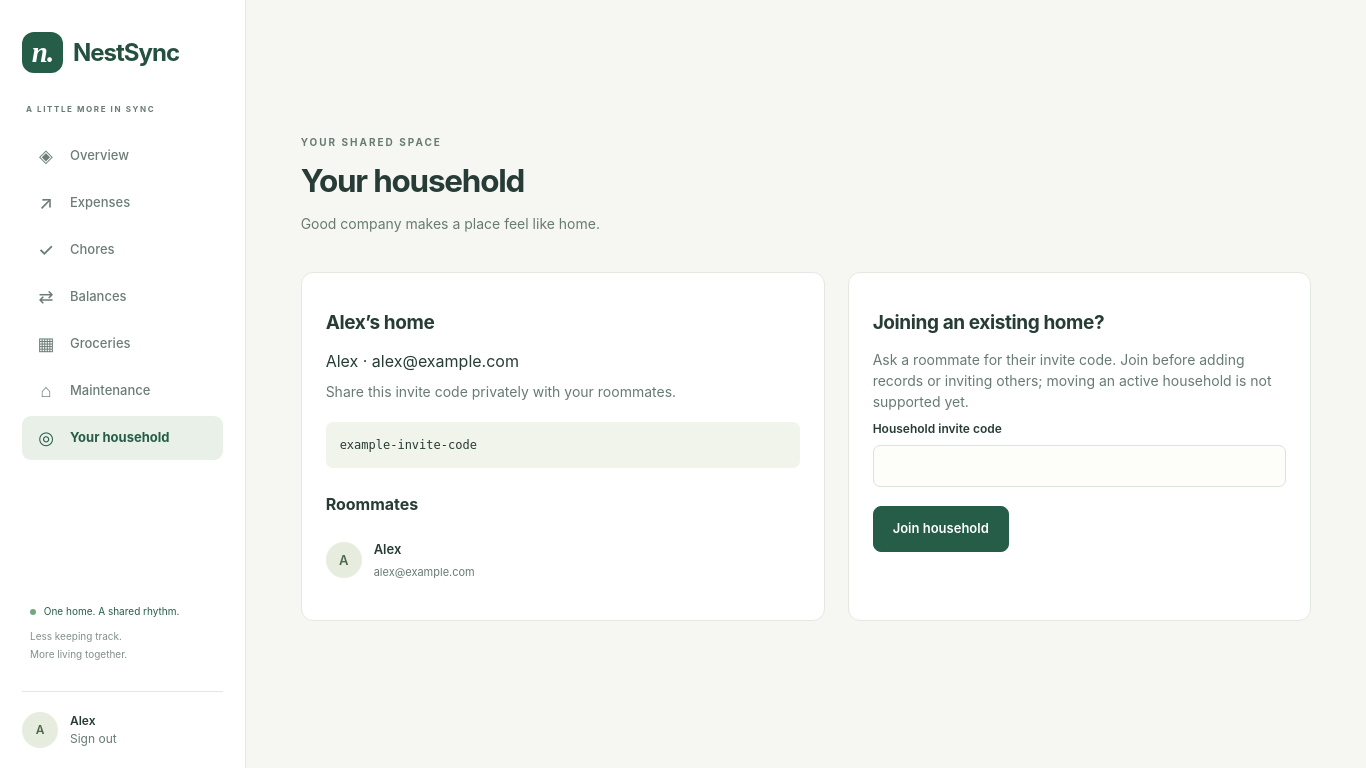
shows membership and joins another home
The width and height of the screenshot is (1366, 768).
Expected: the text "example-invite-code" is shown, [326,422,800,468]
Type "new-code" into the field labelled "Household invite code". click: (1079,466)
box: [873,445,1286,487]
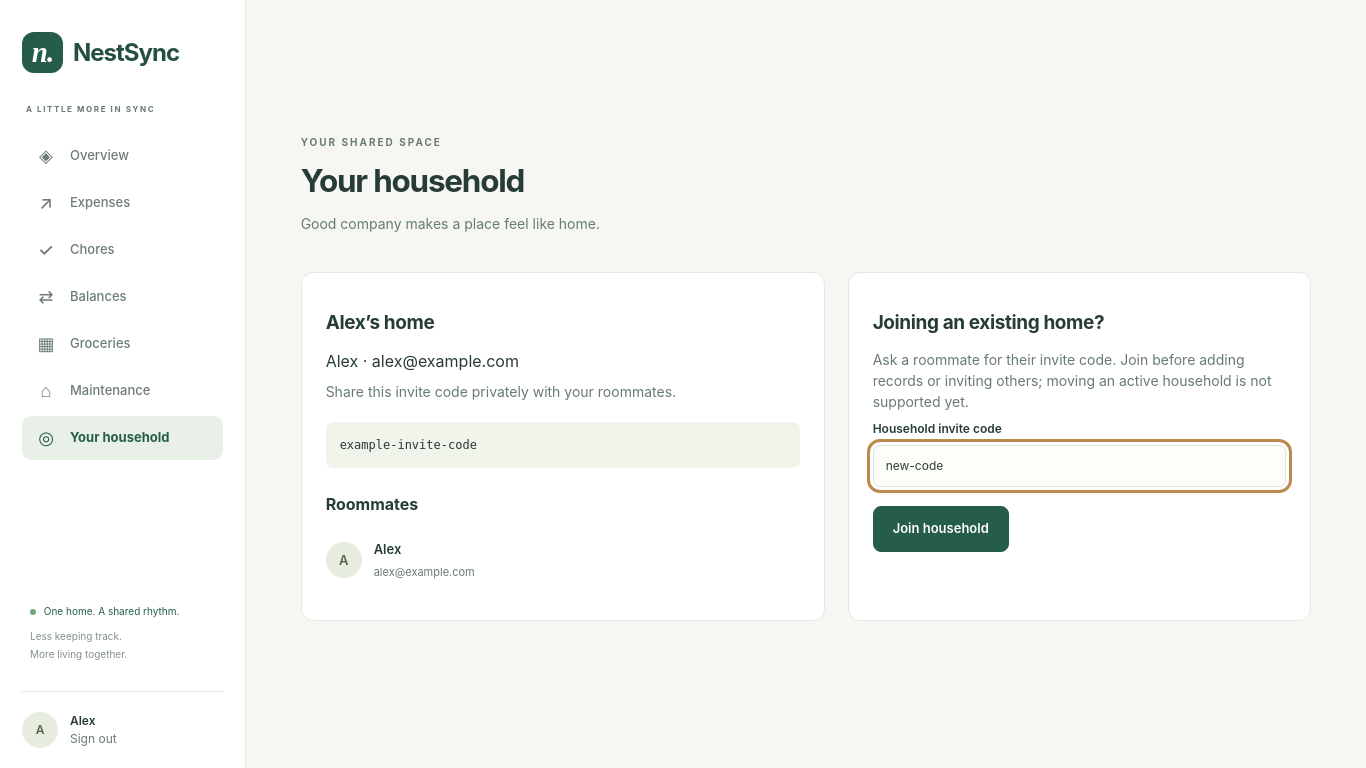
Click the button "Join household". click: (941,529)
box: [873,506,1009,552]
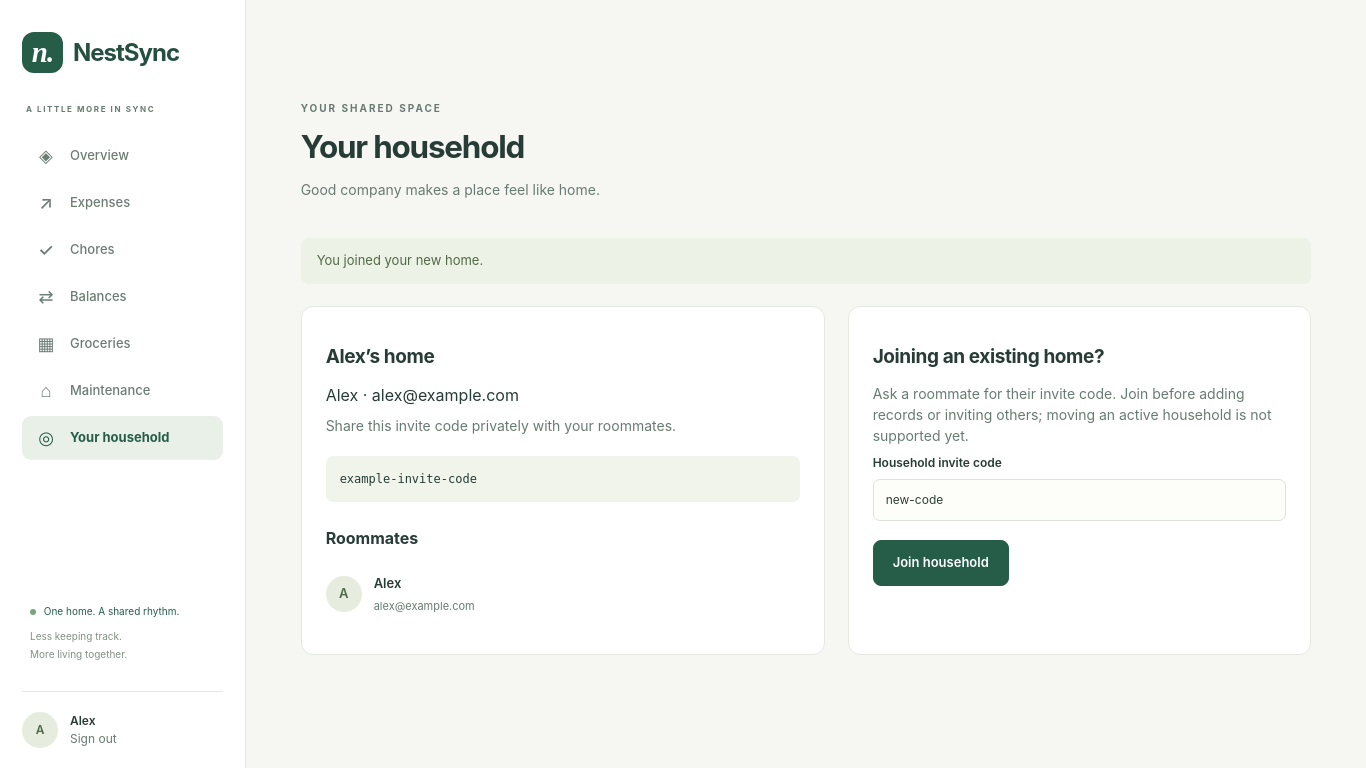
Now the message reads "You joined your new home.", box [317,252,483,268]
